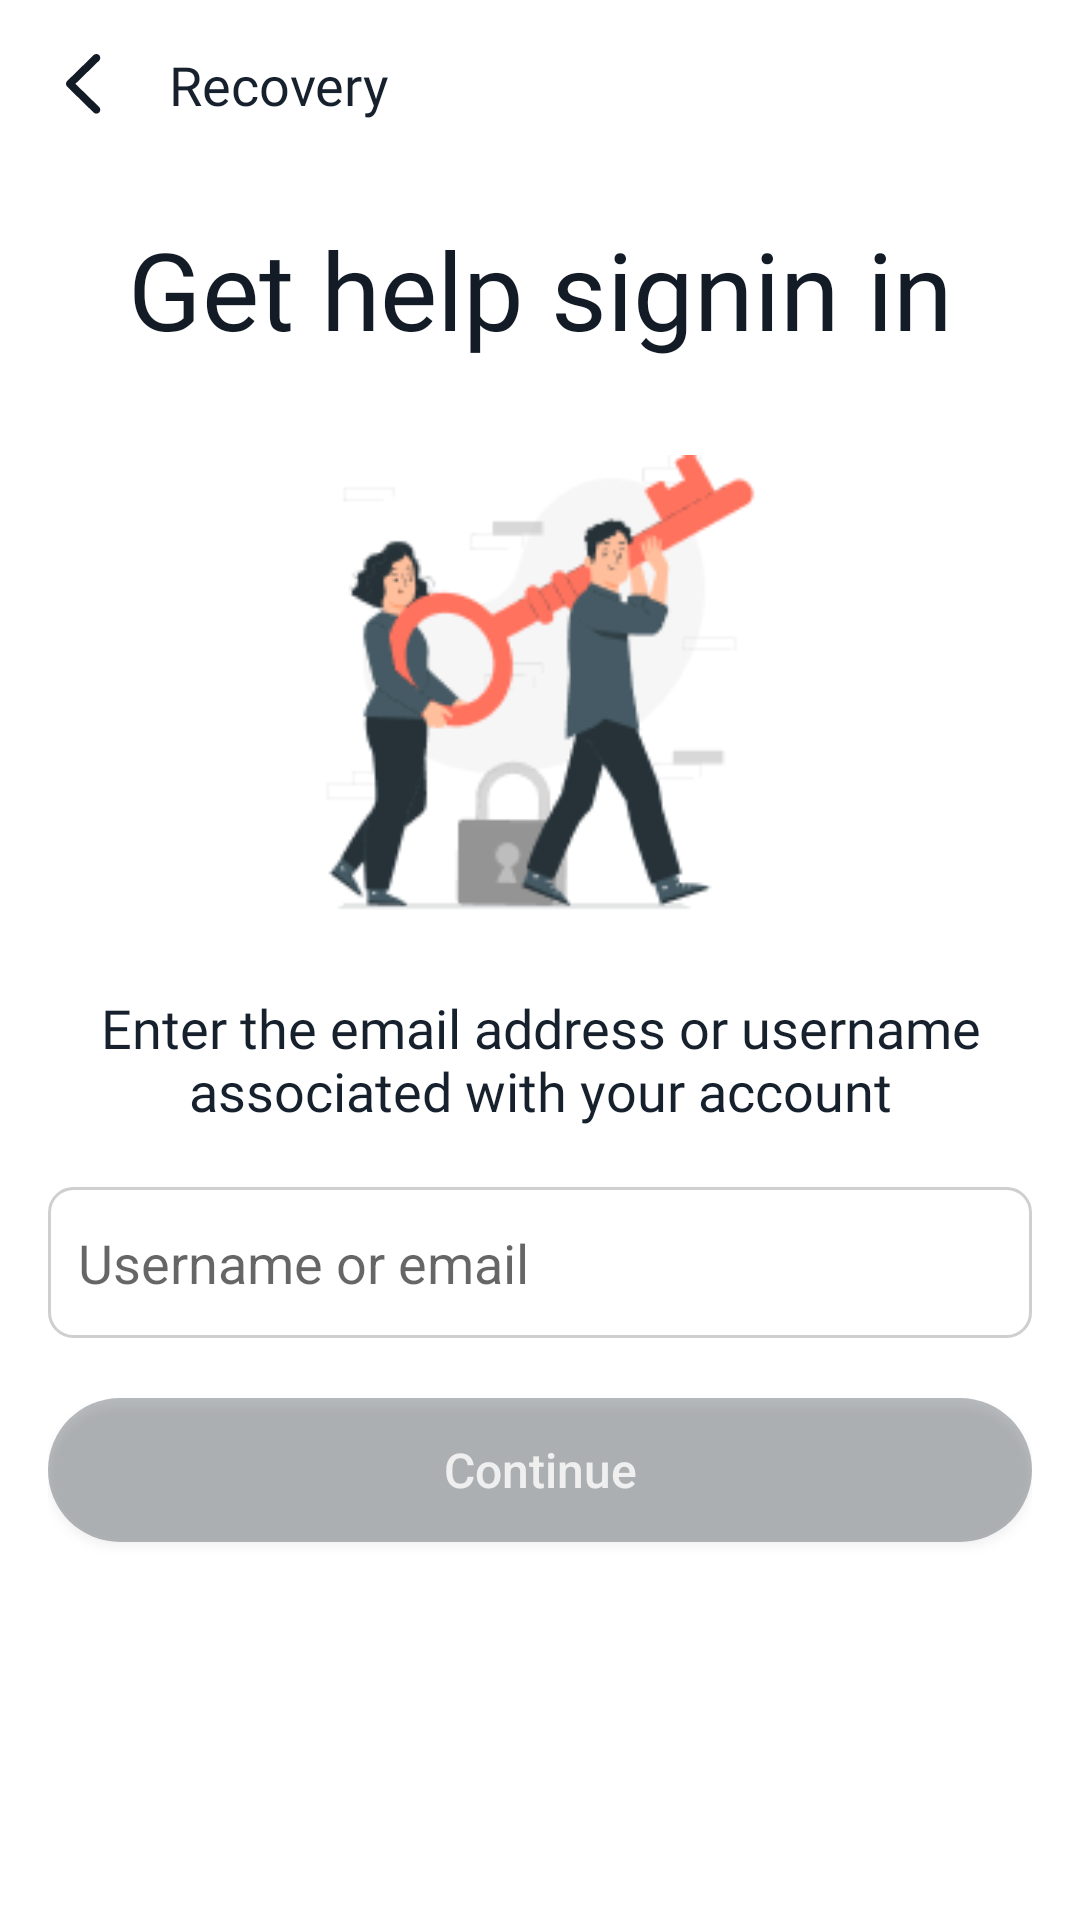

Icons on this 1080w x 1920h Android screen, each with the point to tap as point (x, y):
back: point (83, 84)
